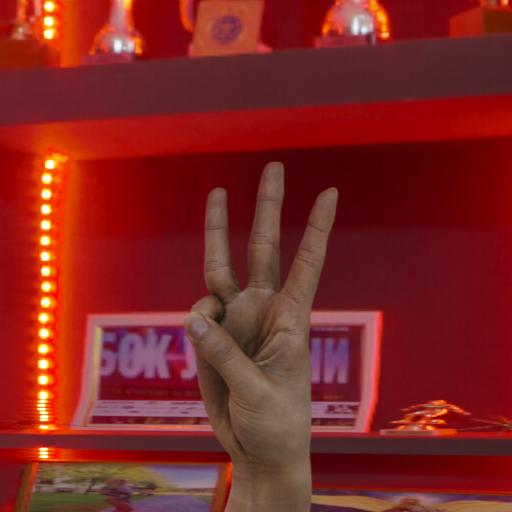W: (158, 131, 403, 512)
